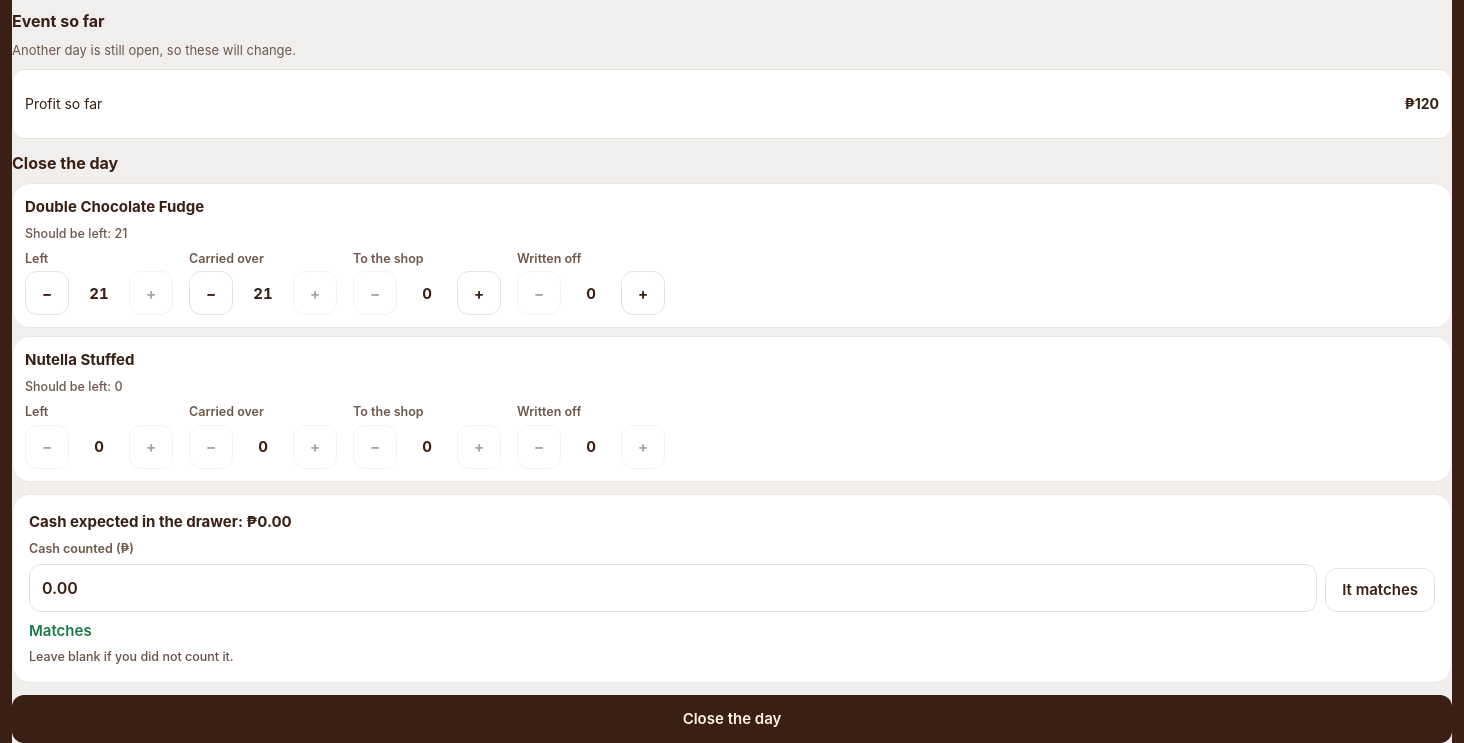
Test: the day review › the drawer › asks when nothing was expected and ₱1,000.00 is typed (Ateneo A3)
(page scrolled)
Replace the text in the field labelled "Cash counted (₱)" with "1000" at (673, 588), box [29,564,1317,612]
(page scrolled)
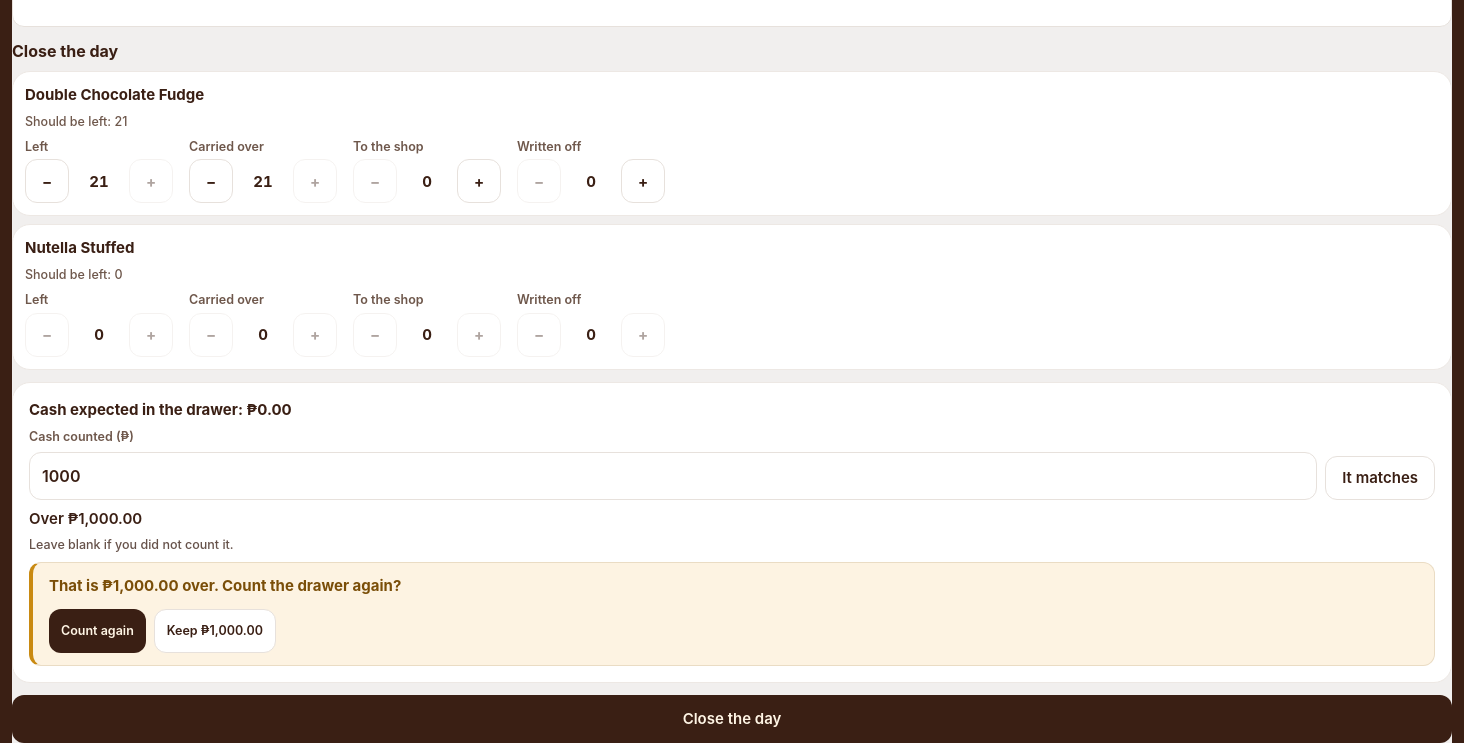
Expected: the message shows "That is ₱1,000.00 over. Count the drawer again?", [49,576,401,595]
Expected: the button "Keep ₱1,000.00" is shown, [154,609,276,653]
